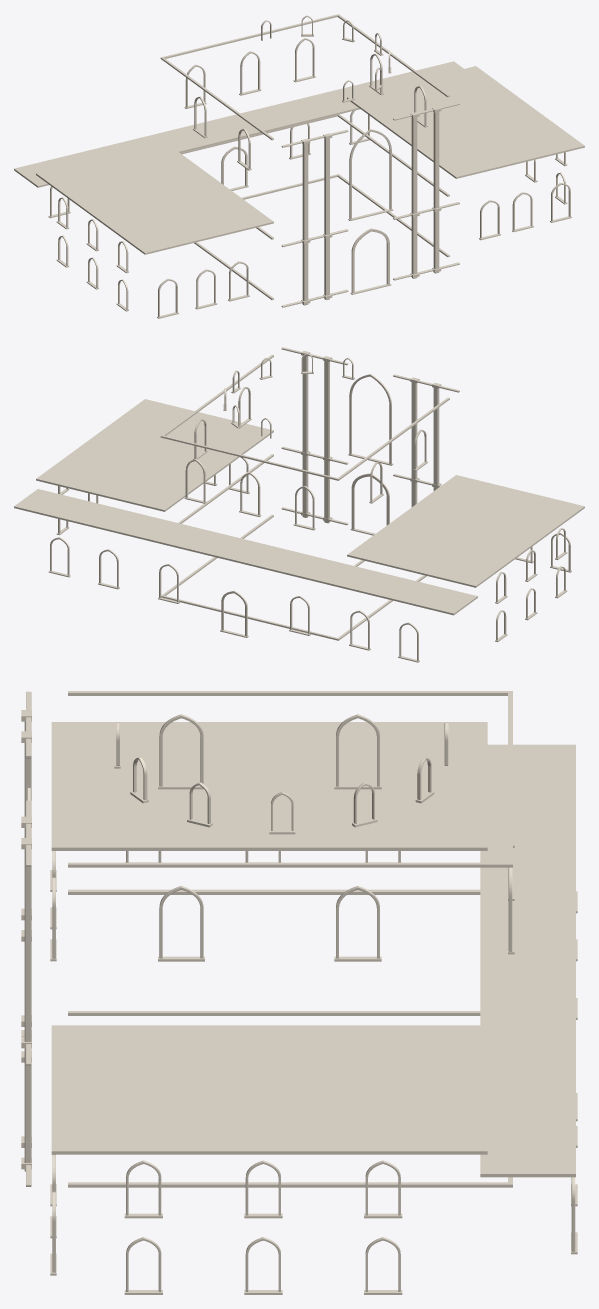
File: castle-04.glb
3 renders of one model, top to bottom at view 1: azimuth 30°, elevation 25°; view 2: azimuth 150°, elevation 25°; view 3: azimuth 270°, elevation 25°, orthographic. The views are drawn at different scales.
Parts seen in each view (by area): view 1: NC.Export.Palace.IvoryStone.01, NC.Export.Palace.IvoryStone.00; view 2: NC.Export.Palace.IvoryStone.01, NC.Export.Palace.IvoryStone.00; view 3: NC.Export.Palace.IvoryStone.01, NC.Export.Palace.IvoryStone.00.
Part boxes in pixels (<box>): NC.Export.Palace.IvoryStone.01: <box>14,14,584,307</box>; NC.Export.Palace.IvoryStone.00: <box>48,129,571,318</box>; NC.Export.Palace.IvoryStone.01: <box>14,347,584,650</box>; NC.Export.Palace.IvoryStone.00: <box>56,374,571,662</box>; NC.Export.Palace.IvoryStone.01: <box>21,691,577,1254</box>; NC.Export.Palace.IvoryStone.00: <box>27,787,577,1294</box>.
Bounding box in the file's own units: 80.84 × 33.73 × 44.12.
